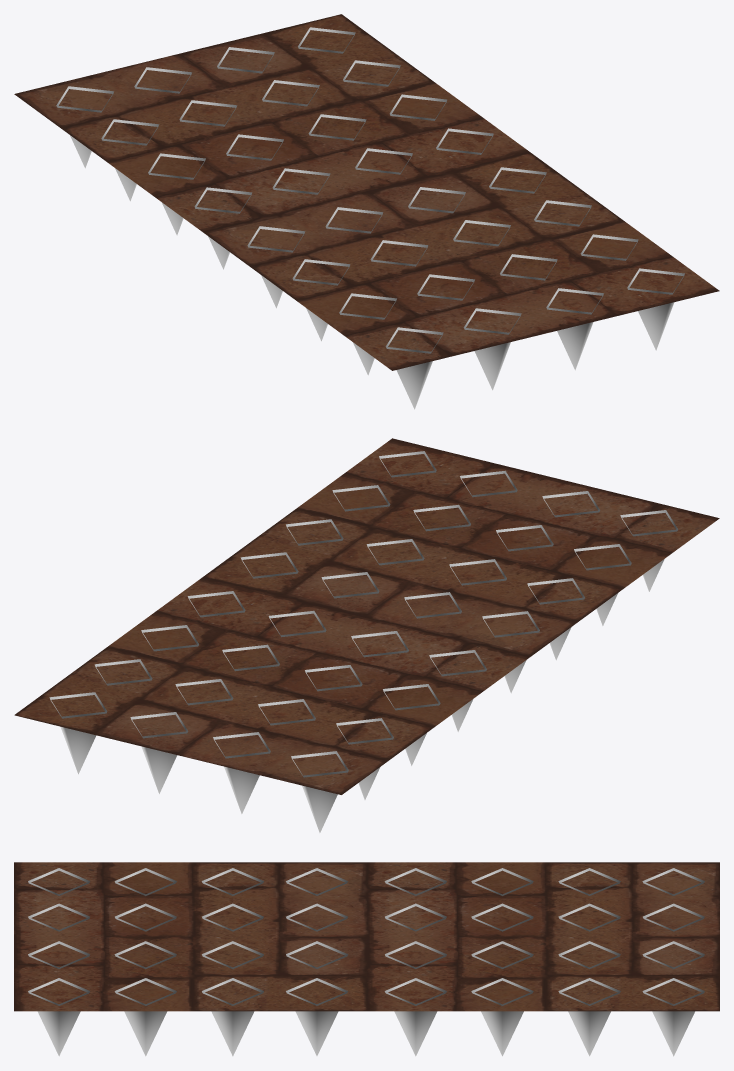
The model's file is Roof_Trap_1x2.FBX.
3 views of the same model, one above another, from view 1: azimuth 30°, elevation 25°; view 2: azimuth 150°, elevation 25°; view 3: azimuth 270°, elevation 25° (orthographic). The views are drawn at different scales.
Parts seen in each view (by area): view 1: Roof_Trap_1x2; view 2: Roof_Trap_1x2; view 3: Roof_Trap_1x2.
Boxes of the visible parts, x1,y1,x2,y2 form: Roof_Trap_1x2: (14, 14, 719, 409); Roof_Trap_1x2: (14, 438, 719, 832); Roof_Trap_1x2: (14, 862, 719, 1056).
Size of the model in its own units: 66.08 by 13.56 by 132.
